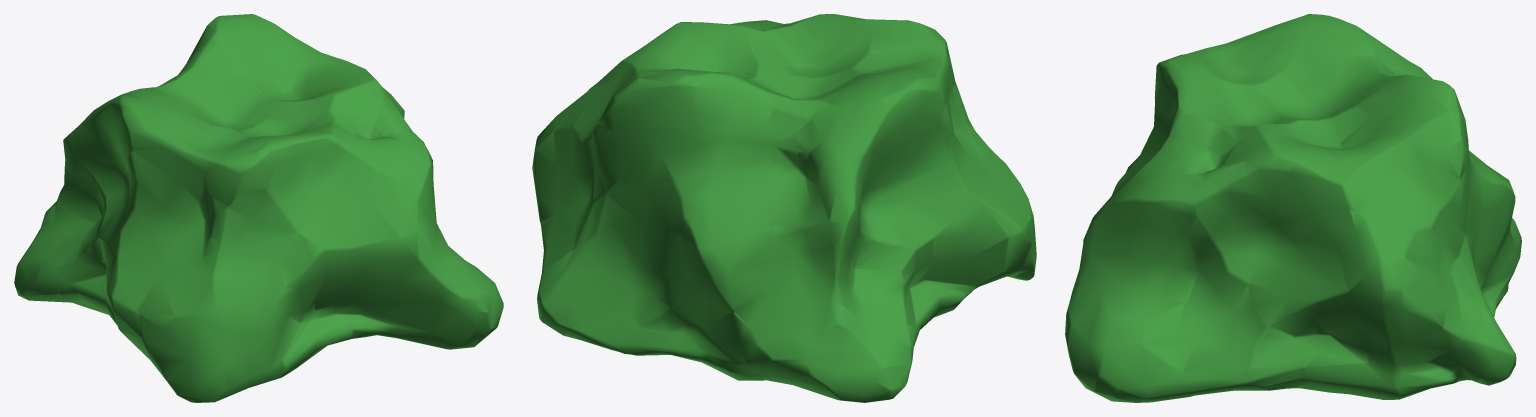
File: obj_resource_uranium.fbx
3 renders of one model, left to right at view 1: azimuth 30°, elevation 25°; view 2: azimuth 150°, elevation 25°; view 3: azimuth 270°, elevation 25°, orthographic. The views are drawn at different scales.
Visible parts, largest first — view 1: Cube.010; view 2: Cube.010; view 3: Cube.010.
Part boxes in pixels (bbox=[...]): Cube.010: bbox=[14, 14, 503, 402]; Cube.010: bbox=[532, 14, 1036, 402]; Cube.010: bbox=[1065, 14, 1521, 402].
Size of the model in its own units: 2.04 by 1.31 by 2.02.
